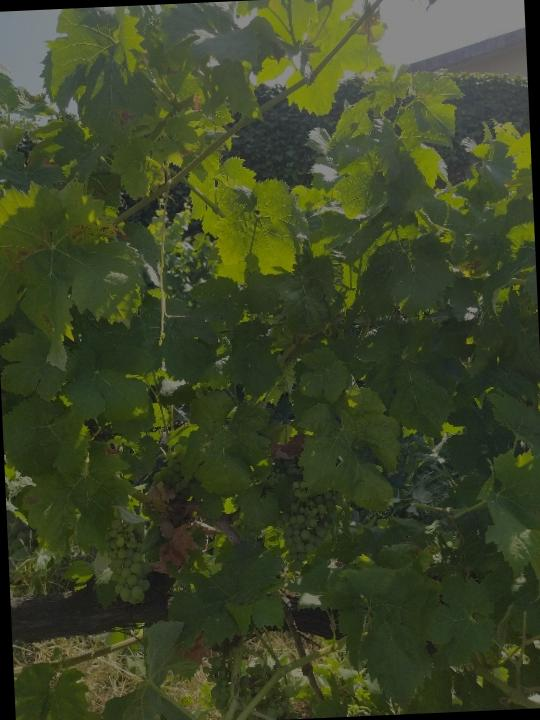grape: (270, 477, 348, 575), (100, 510, 155, 609)
